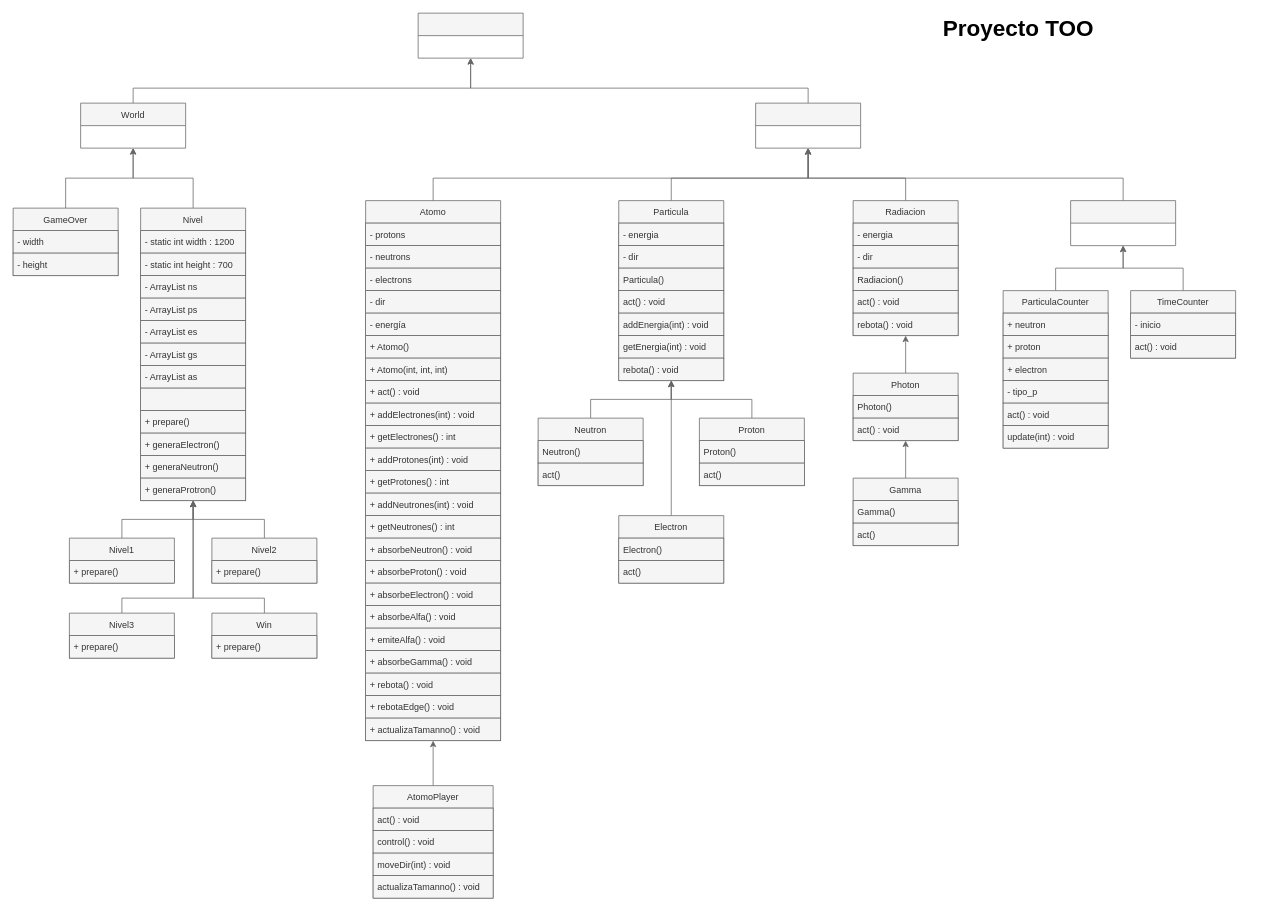
This 1279x911 diagram has some shape labels left out. Here are the shapes that lost their labels. From the top down, the centre of each, then its label:
At point (470, 35): "Juego".
At point (808, 125): "Actor".
At point (1123, 223): "Counter".
At point (193, 399): "+ probabilidad(int)".
